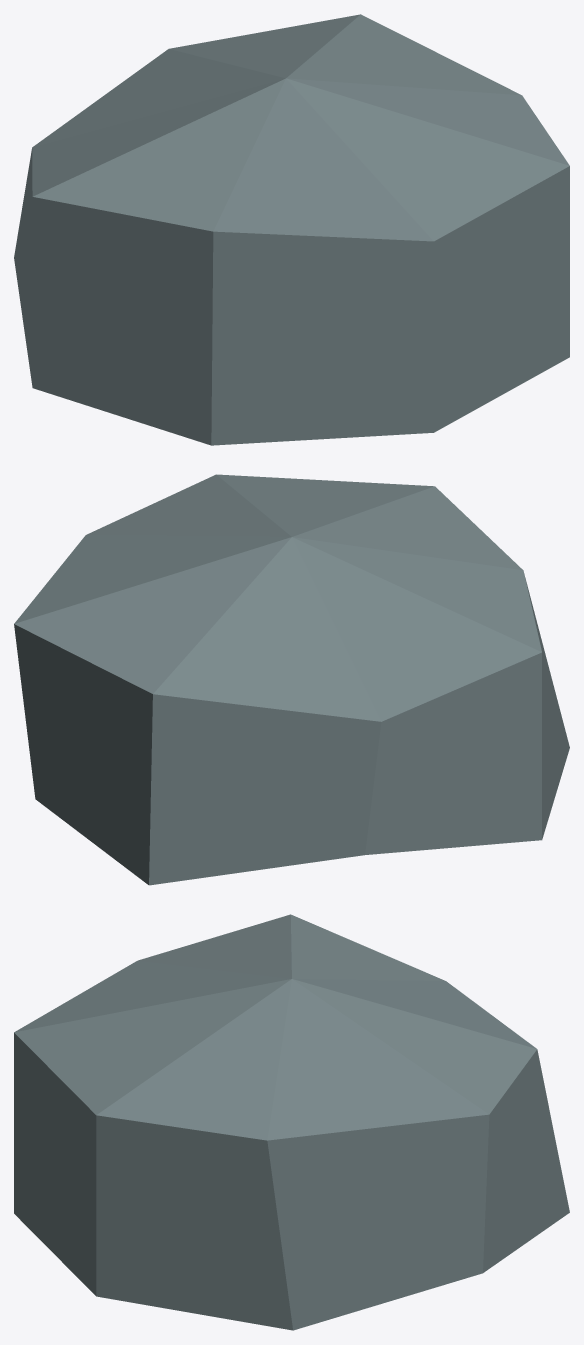
File: Rock_06.fbx
3 renders of one model, top to bottom at view 1: azimuth 30°, elevation 25°; view 2: azimuth 150°, elevation 25°; view 3: azimuth 270°, elevation 25°, orthographic. The views are drawn at different scales.
Visible parts, largest first — view 1: Rock_06; view 2: Rock_06; view 3: Rock_06.
Part boxes in pixels (x1,y1,x2,y2): Rock_06: (14, 14, 569, 445); Rock_06: (14, 474, 569, 885); Rock_06: (14, 914, 569, 1330).
Size of the model in its own units: 63.09 by 33.28 by 63.09.
